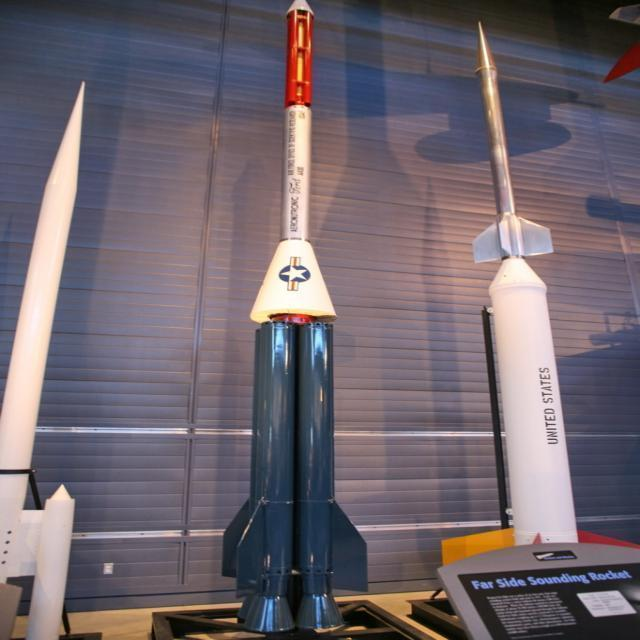missile: (227, 0, 370, 640), (460, 14, 576, 617), (0, 74, 96, 640)
